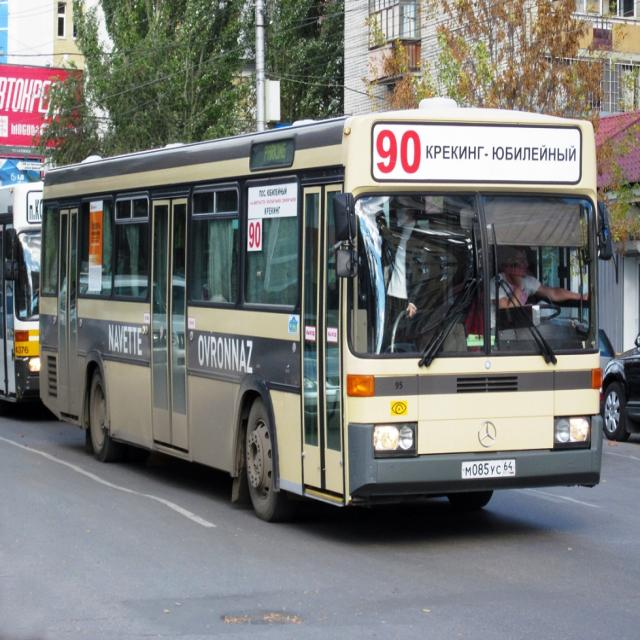number-of-bus: (374, 124, 426, 179), (249, 222, 262, 250)
